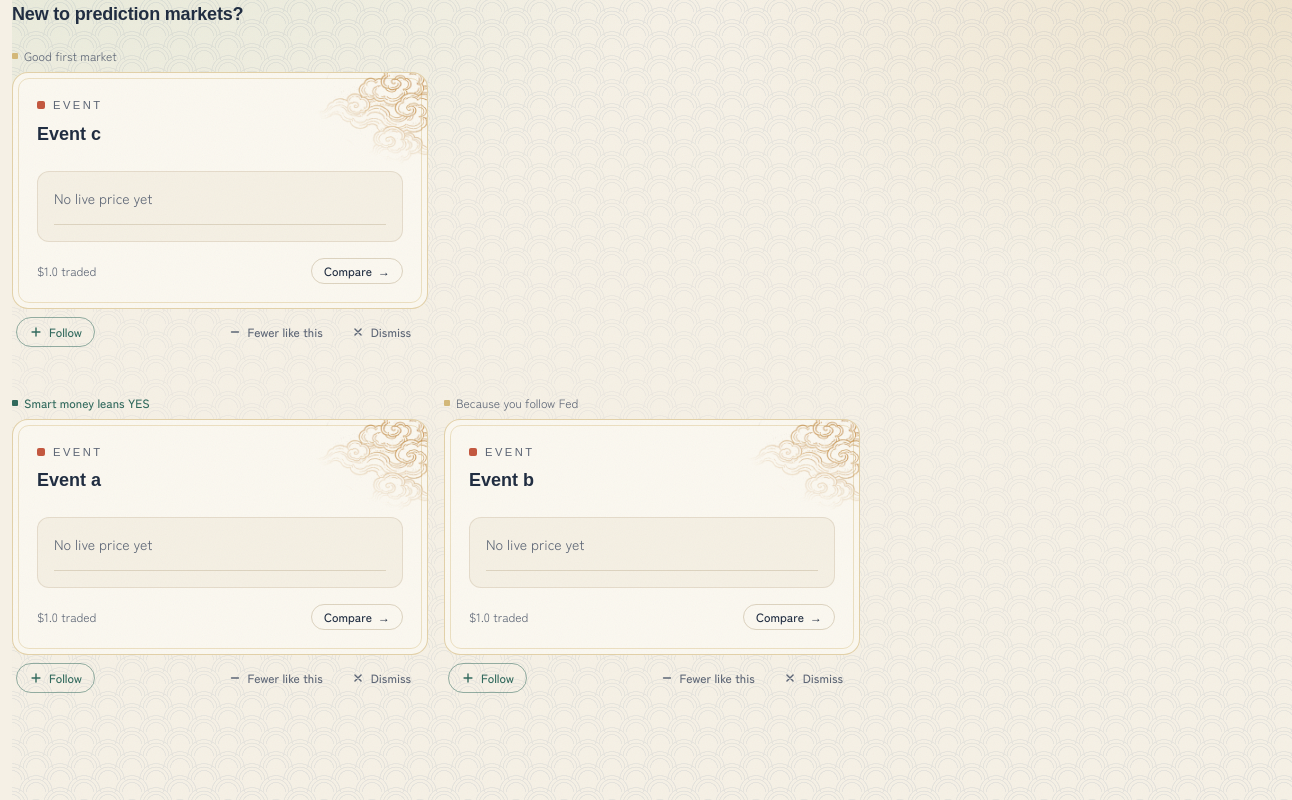
Test case: FeedList › dismiss sends a signal and removes the card
Click the button "Dismiss" below "Event c" at (381, 332), box [338,316,424,346]
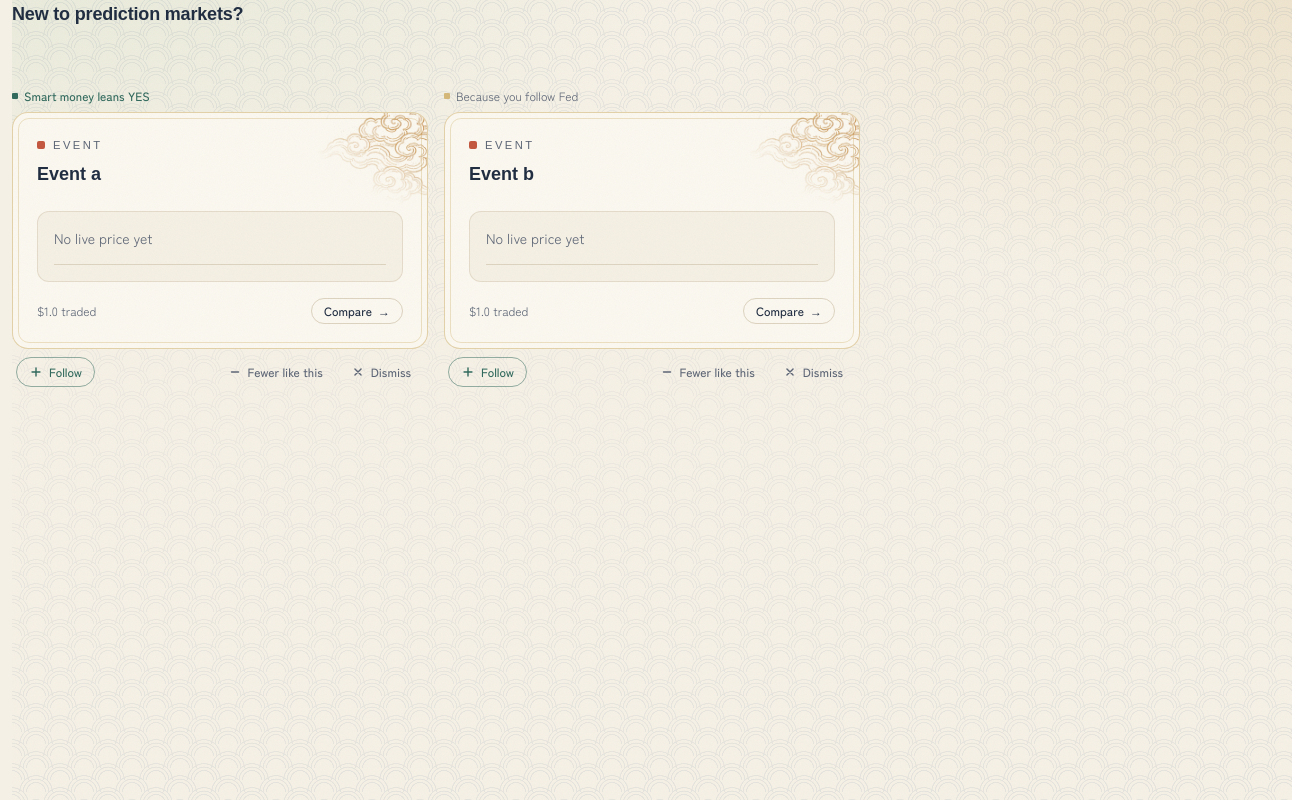
Result: the link "Event c" is gone
